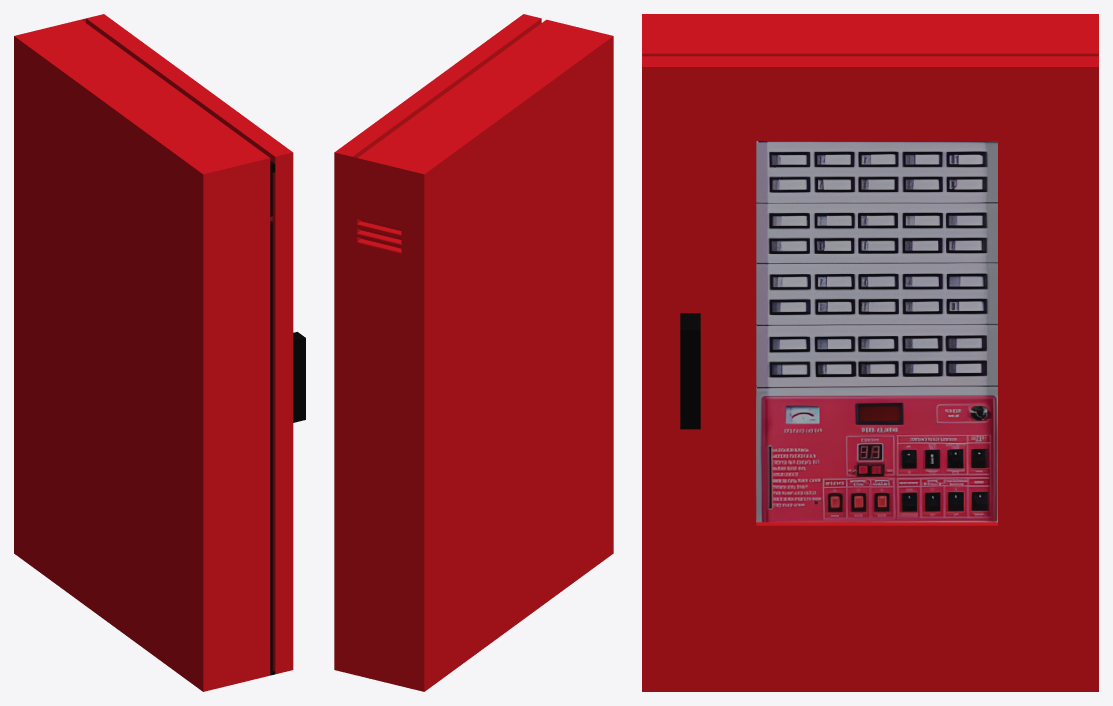
Rendered from Panel MCFA.fbx.
The picture shows the model from 3 angles, left to right: view 1: azimuth 30°, elevation 25°; view 2: azimuth 150°, elevation 25°; view 3: azimuth 270°, elevation 25°; orthographic projection. The views are drawn at different scales.
Parts seen in each view (by area): view 1: Cube.001; view 2: Cube.001; view 3: Cube.001.
Part boxes in pixels (left/top/right/bottom): Cube.001: left=14, top=14, right=305, bottom=691; Cube.001: left=334, top=14, right=613, bottom=691; Cube.001: left=642, top=14, right=1098, bottom=691.
Size of the model in its own units: 96.84 by 404 by 267.
3 materials, 1 textured.
